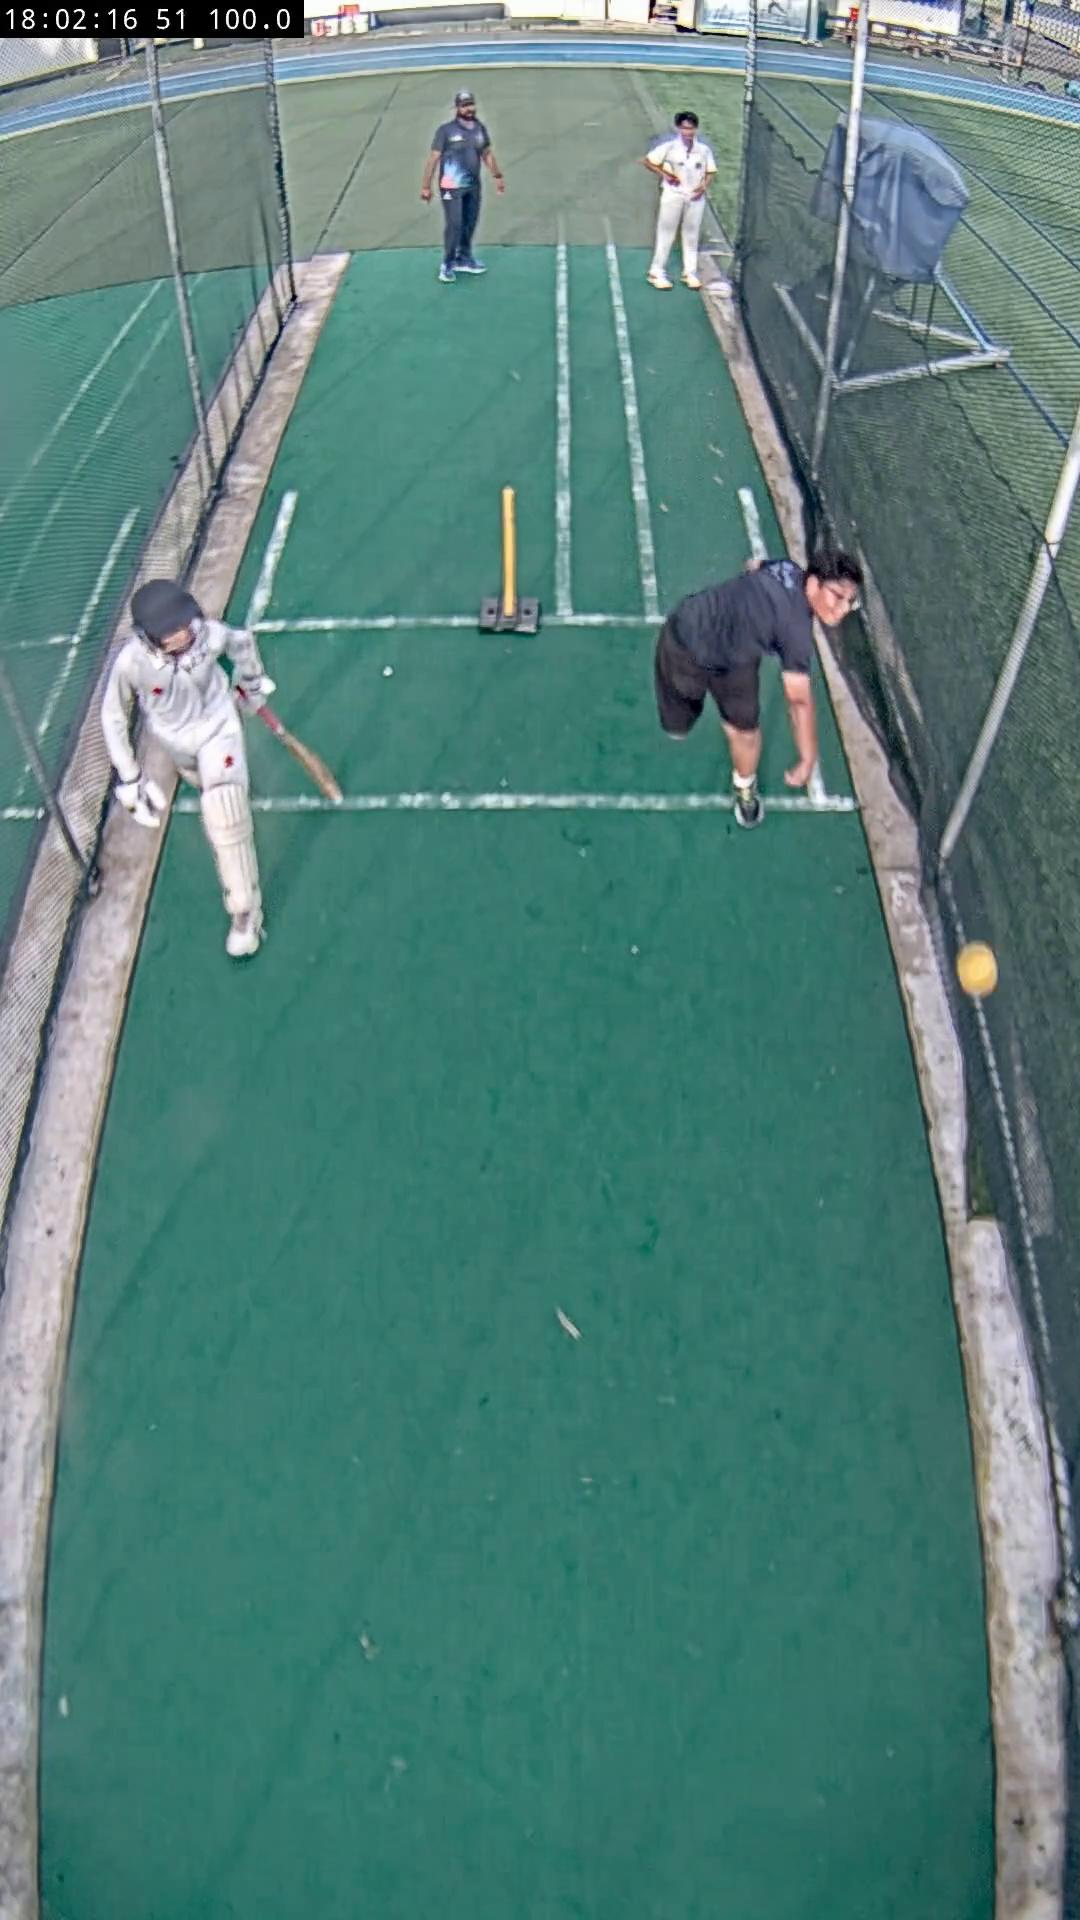ball: (956, 942, 997, 997)
stumps: (476, 488, 541, 634)
